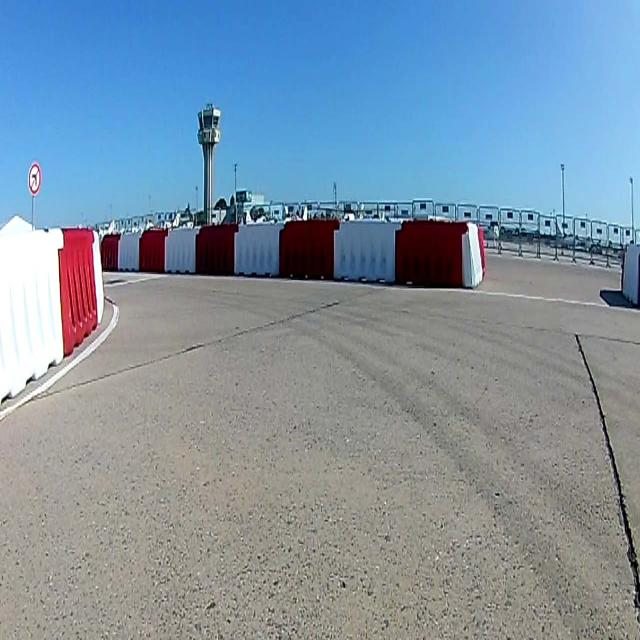soladonulmez: (28, 163, 41, 193)
